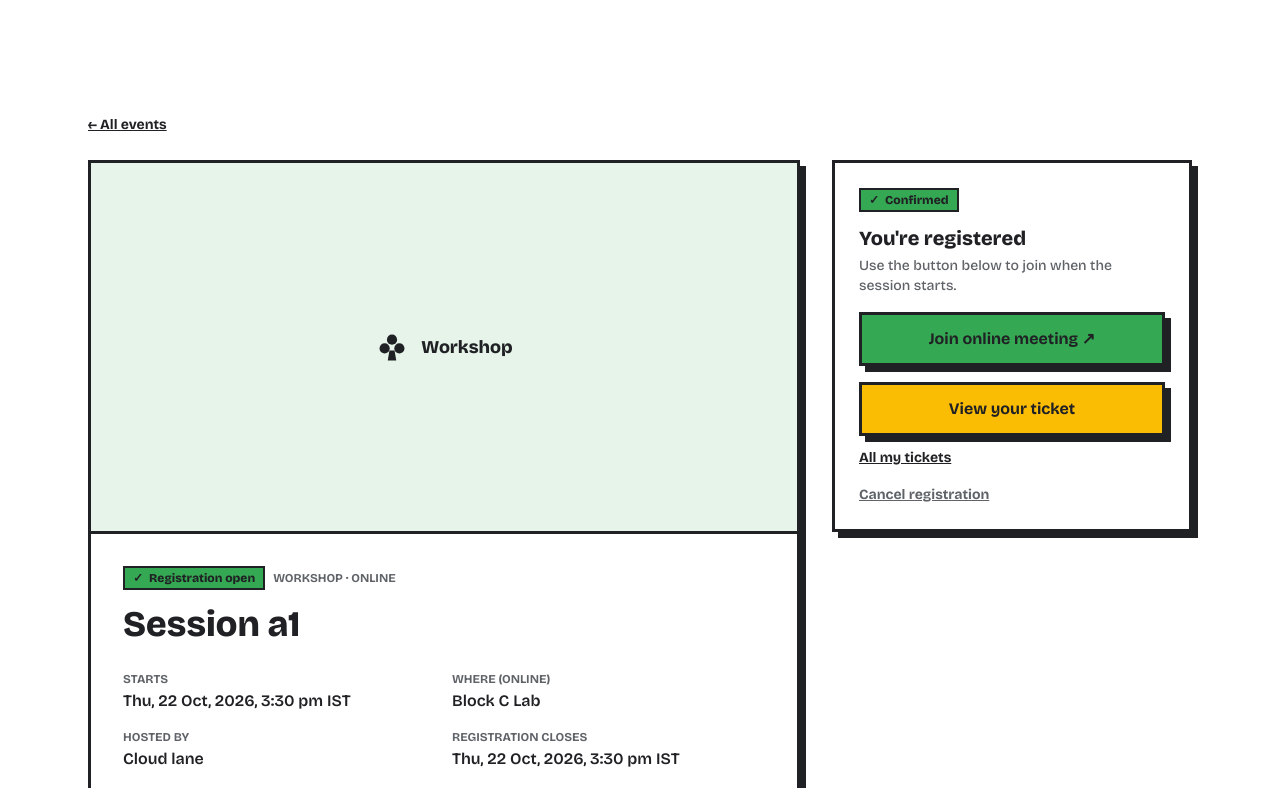
Test: registered members see the meeting link and can cancel after confirming
Click the button "Cancel registration": click(924, 495) [859,485,989,505]
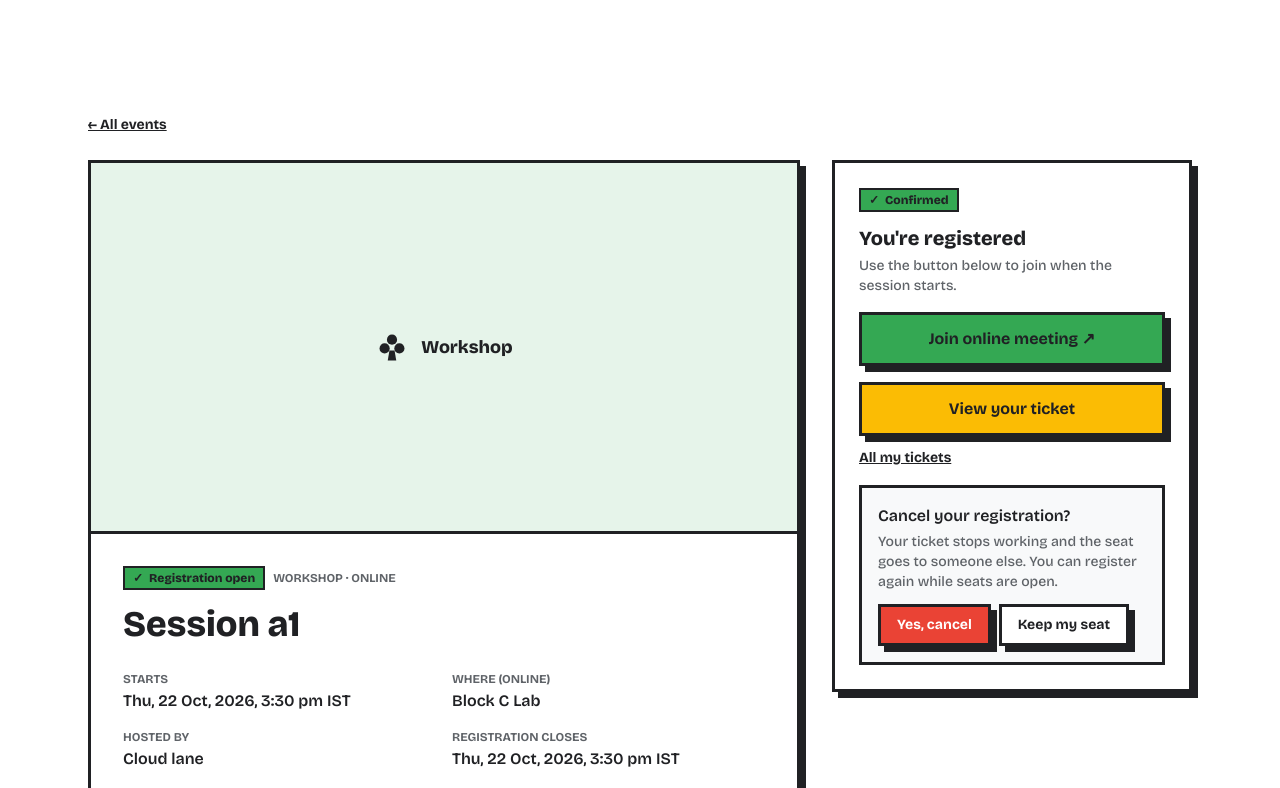
Click the button "Keep my seat": click(1064, 625) [999,604,1129,646]
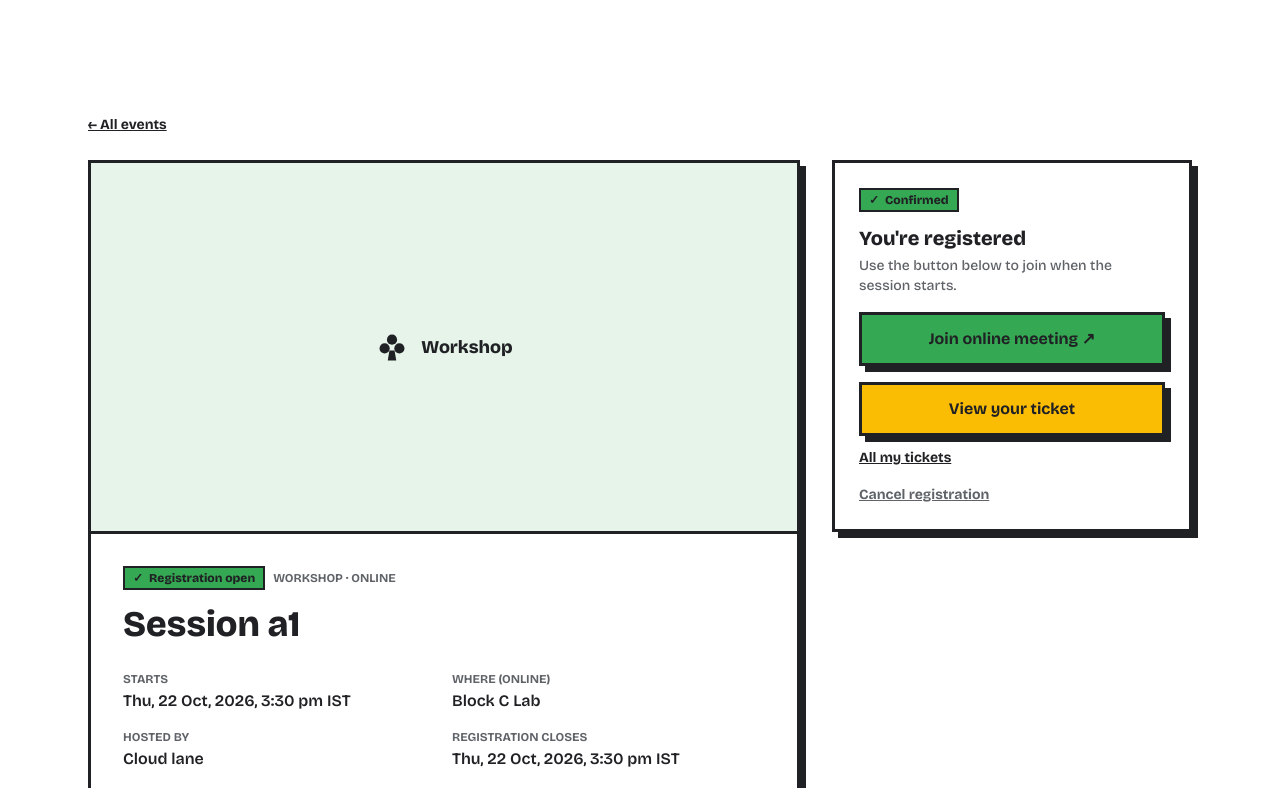
Click the button "Cancel registration": click(924, 495) [859,485,989,505]
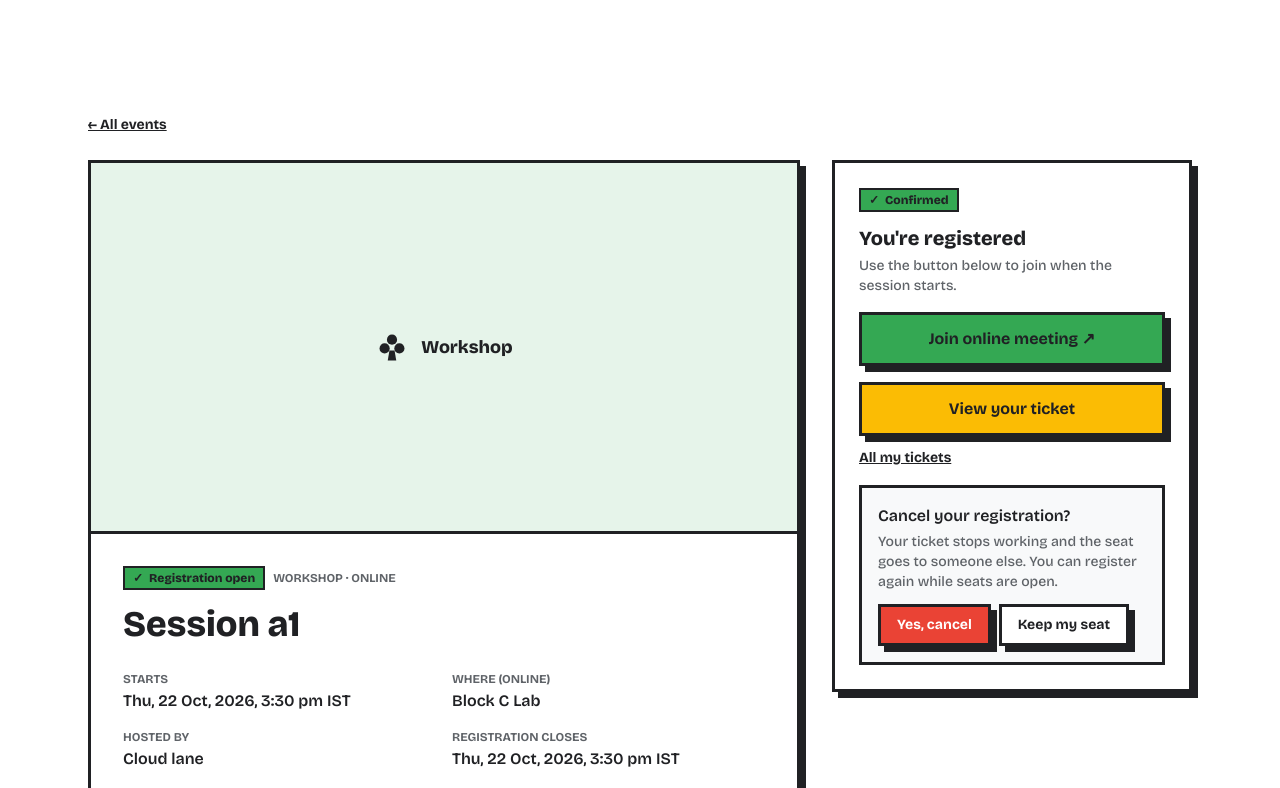
Click the button "Yes, cancel": click(934, 625) [878,604,991,646]
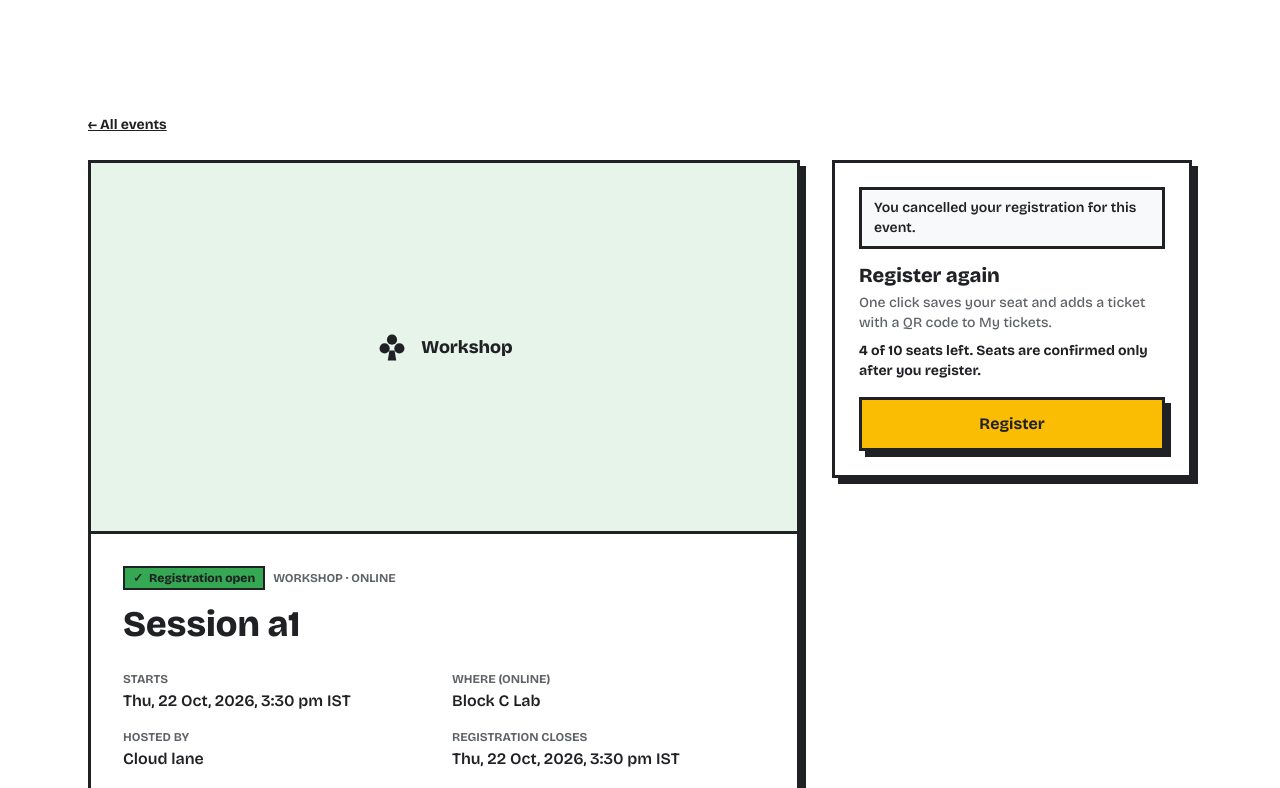
Result: the text "You cancelled your registration for this event." is shown at [859,187,1165,249]
Result: the button "Register" is shown at [859,397,1165,451]
Result: the text "4 of 10 seats left" is shown at [859,341,1165,381]
